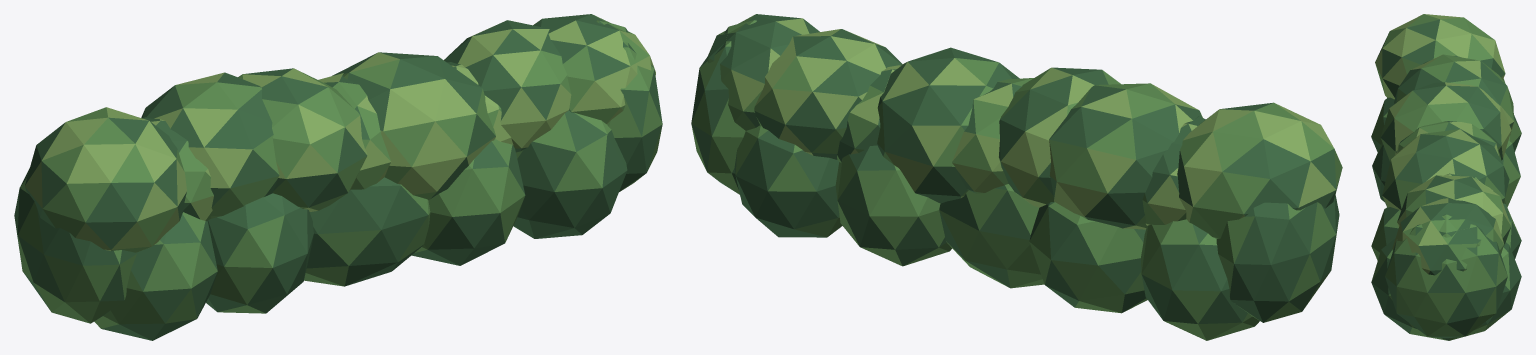
File: hedge_section.glb
3 renders of one model, left to right at view 1: azimuth 30°, elevation 25°; view 2: azimuth 150°, elevation 25°; view 3: azimuth 270°, elevation 25°, orthographic. The views are drawn at different scales.
Visible parts, largest first — view 1: hedge_section; view 2: hedge_section; view 3: hedge_section.
Boxes of the visible parts, bbox=[...] form: hedge_section: bbox=[14, 14, 662, 340]; hedge_section: bbox=[691, 14, 1342, 340]; hedge_section: bbox=[1371, 14, 1521, 340].
Bounding box in the file's own units: 3.02 × 1.05 × 0.8827.
